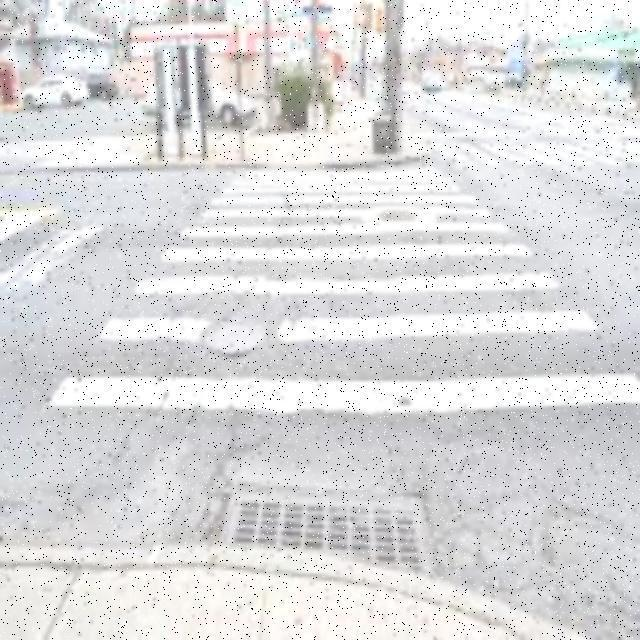Pedestrian crosswalk: (39, 161, 638, 417), (408, 130, 639, 179)
